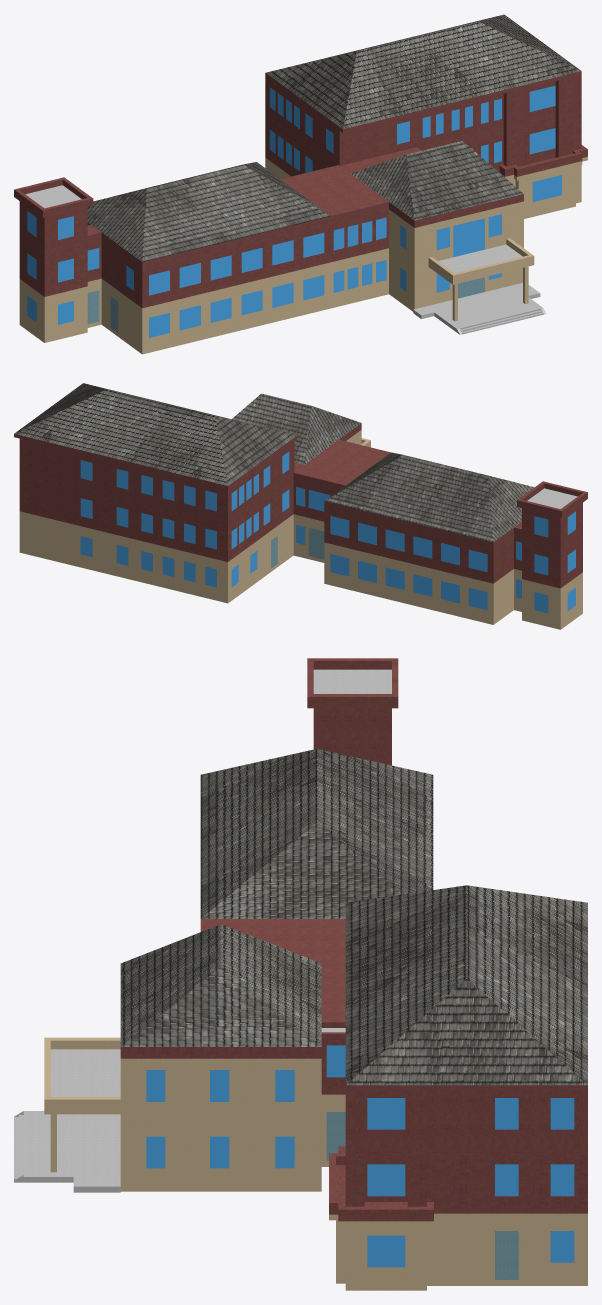
The model's file is Administration_Complex.glb.
The picture shows the model from 3 angles, top to bottom: view 1: azimuth 30°, elevation 25°; view 2: azimuth 150°, elevation 25°; view 3: azimuth 270°, elevation 25°; orthographic projection. The views are drawn at different scales.
Visible parts, largest first — view 1: Floor3, Floor2, Floor1, Roof; view 2: Floor3, Floor2, Floor1, Roof; view 3: Floor3, Roof, Floor1, Floor2.
Boxes of the visible parts, x1=… form: Floor3: x1=19, y1=75, x2=581, y2=269; Floor2: x1=19, y1=117, x2=587, y2=311; Floor1: x1=19, y1=161, x2=581, y2=354; Roof: x1=14, y1=14, x2=581, y2=217; Floor3: x1=19, y1=393, x2=582, y2=553; Floor2: x1=19, y1=430, x2=582, y2=591; Floor1: x1=19, y1=514, x2=582, y2=629; Roof: x1=14, y1=383, x2=587, y2=517; Floor3: x1=120, y1=708, x2=587, y2=1157; Roof: x1=307, y1=658, x2=587, y2=1090; Floor1: x1=14, y1=1100, x2=587, y2=1290; Floor2: x1=44, y1=1028, x2=587, y2=1226.
Bounding box in the file's own units: 62.95 × 18.2 × 36.
Materials: 8 (7 with a texture image).
